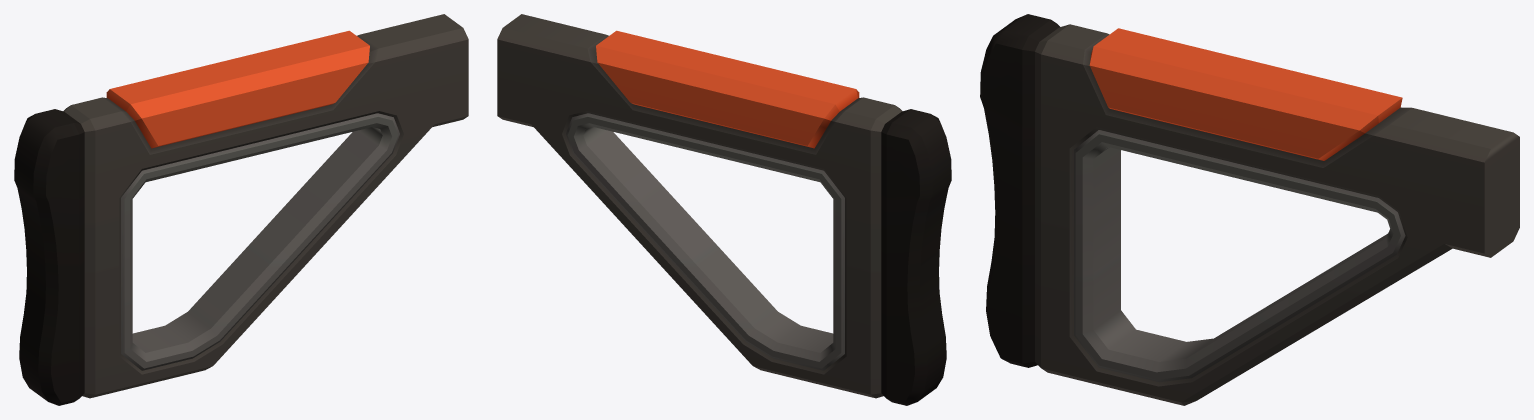
The model's file is AR2_ButtstockLight.fbx.
3 renders of one model, left to right at view 1: azimuth 30°, elevation 25°; view 2: azimuth 150°, elevation 25°; view 3: azimuth 330°, elevation 25°, orthographic. The views are drawn at different scales.
Visible parts, largest first — view 1: AR2_ButtstockLight; view 2: AR2_ButtstockLight; view 3: AR2_ButtstockLight.
Part boxes in pixels (x1,y1,x2,y2): AR2_ButtstockLight: [14, 14, 468, 405]; AR2_ButtstockLight: [497, 14, 951, 405]; AR2_ButtstockLight: [980, 14, 1519, 405].
Size of the model in its own units: 21.6 by 13.68 by 3.16.
